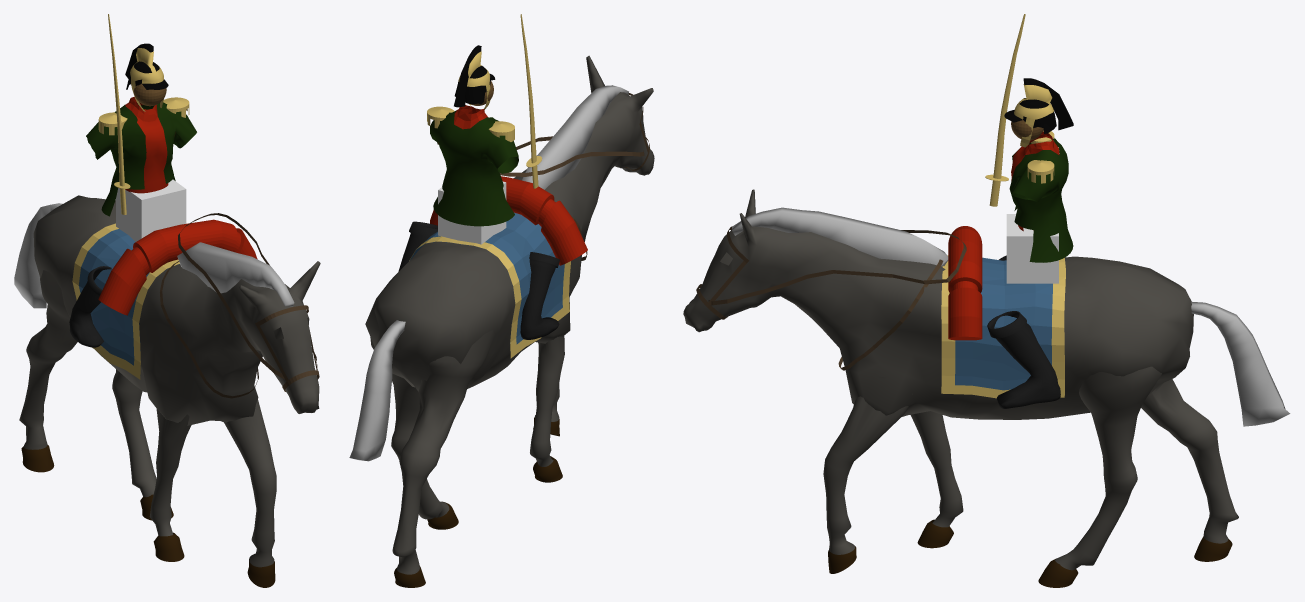
File: Dragoons.dae
The picture shows the model from 3 angles, left to right: view 1: azimuth 30°, elevation 25°; view 2: azimuth 150°, elevation 25°; view 3: azimuth 270°, elevation 25°; orthographic projection. The views are drawn at different scales.
Visible parts, largest first — view 1: horse_body, Circle_005, rigth_rear_leg, jacket, front_left_leg, horse_cover, tail_001, Cube, left_rear_leg, right_front_leg, horse_cover_trim, shirt (+13 smaller); view 2: horse_body, rigth_rear_leg, jacket, tail, horse_cover, Circle_005, tail_001, right_front_leg, left_rear_leg, boot_right, horse_cover_trim, Cube (+10 smaller); view 3: horse_body, left_rear_leg, horse_cover, rigth_rear_leg, tail_001, jacket, front_left_leg, tail, Circle_005, boot_left, horse_cover_trim, right_front_leg (+4 smaller).
Part boxes in pixels (x1,y1,x2,y2): horse_body: (33,195,320,425); Circle_005: (98,219,257,315); rigth_rear_leg: (19,270,77,449); jacket: (86,102,196,216); front_left_leg: (224,400,276,567); horse_cover: (78,229,156,375); tail_001: (177,242,294,306); Cube: (116,179,186,241); left_rear_leg: (112,369,156,497); right_front_leg: (149,408,191,536); horse_cover_trim: (72,223,179,379); shirt: (125,97,168,193); horse_body: (365,55,654,391); rigth_rear_leg: (392,330,494,574); jacket: (430,110,518,226); tail: (349,320,405,461); horse_cover: (409,212,564,351); Circle_005: (430,176,587,265); tail_001: (522,85,628,189); right_front_leg: (530,336,564,482); left_rear_leg: (370,337,449,519); boot_right: (520,252,559,339); horse_cover_trim: (409,236,570,358); Cube: (438,181,506,244); horse_body: (683,189,1193,419); left_rear_leg: (1055,366,1161,570); horse_cover: (955,257,1052,390); rigth_rear_leg: (1141,379,1238,543); tail_001: (732,207,948,266); jacket: (1009,138,1073,262); front_left_leg: (823,376,912,554); tail: (1191,301,1290,426); Circle_005: (948,226,982,340); boot_left: (987,311,1060,408); horse_cover_trim: (941,255,1065,398); right_front_leg: (910,411,963,527).
Bounding box in the file's own units: 1.02 × 3.06 × 2.98.
